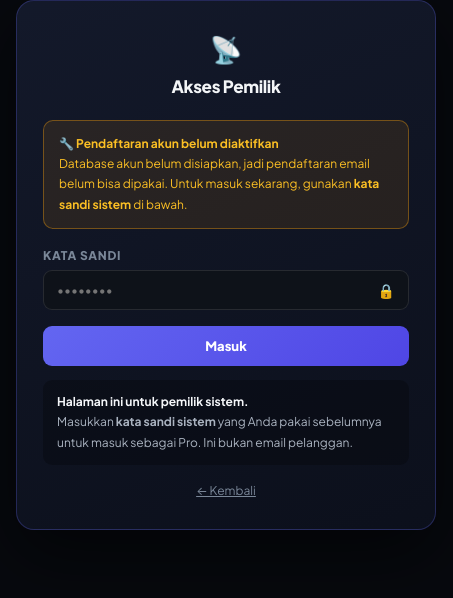
Test: owner sign-in › shows a readable error when the password is wrong
Type "wrong" into the password field labelled "Kata Sandi" at (226,290), box [43,270,409,310]
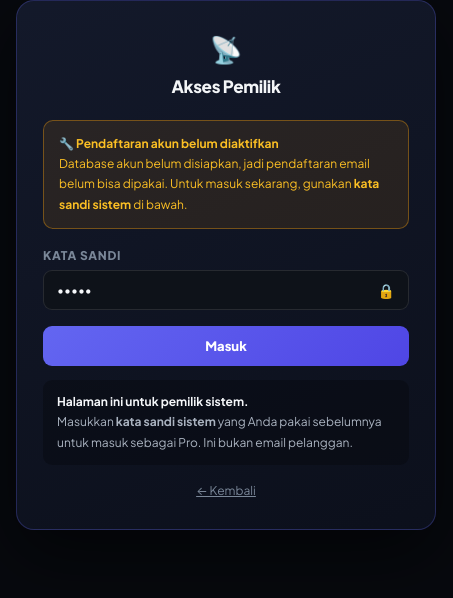
Click the button "Masuk" at (226,346), box [43,326,409,366]
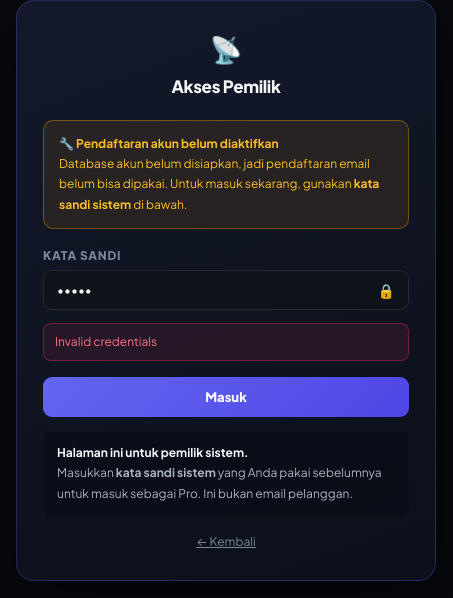
Now the message "Invalid credentials" is shown, box [43,323,409,361]
